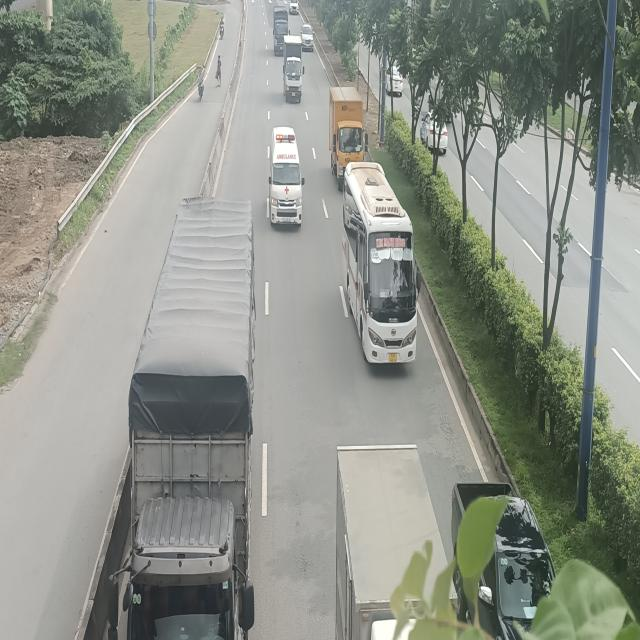car: (300, 24, 314, 50)
coach: (341, 159, 421, 367)
truck: (109, 196, 255, 638), (328, 84, 368, 191), (282, 34, 304, 100), (273, 10, 288, 54)
van: (268, 127, 306, 226)
